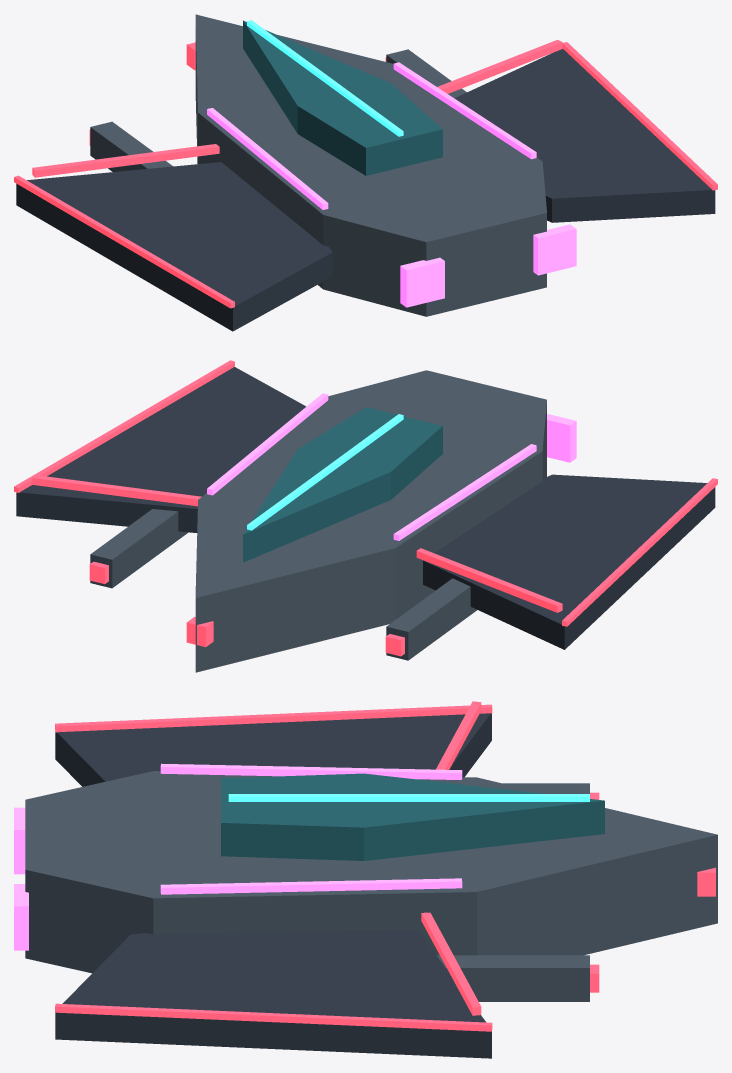
The model's file is needle_drone.glb.
The picture shows the model from 3 angles, top to bottom: view 1: azimuth 30°, elevation 25°; view 2: azimuth 150°, elevation 25°; view 3: azimuth 270°, elevation 25°; orthographic projection. The views are drawn at different scales.
Visible parts, largest first — view 1: needle_drone; view 2: needle_drone; view 3: needle_drone.
Boxes of the visible parts, <box> form: needle_drone: <box>14,14,717,331</box>; needle_drone: <box>14,360,717,672</box>; needle_drone: <box>14,701,717,1058</box>.
Size of the model in its own units: 10.09 by 1.88 by 9.35.
